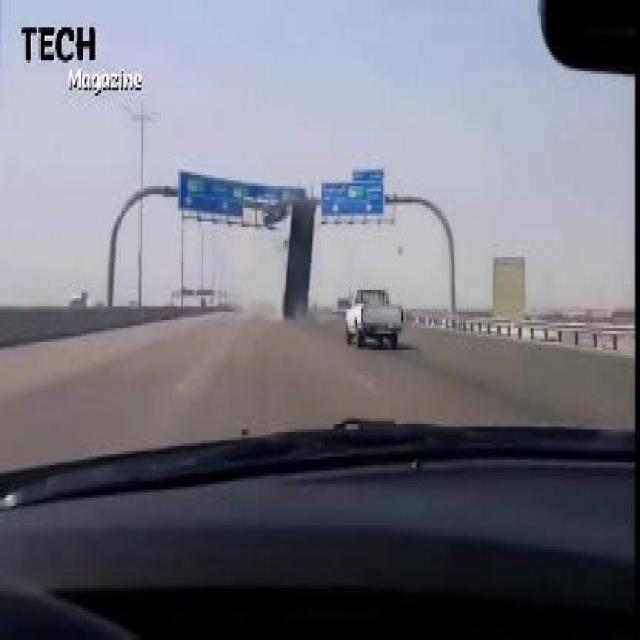accident: (269, 175, 331, 328)
